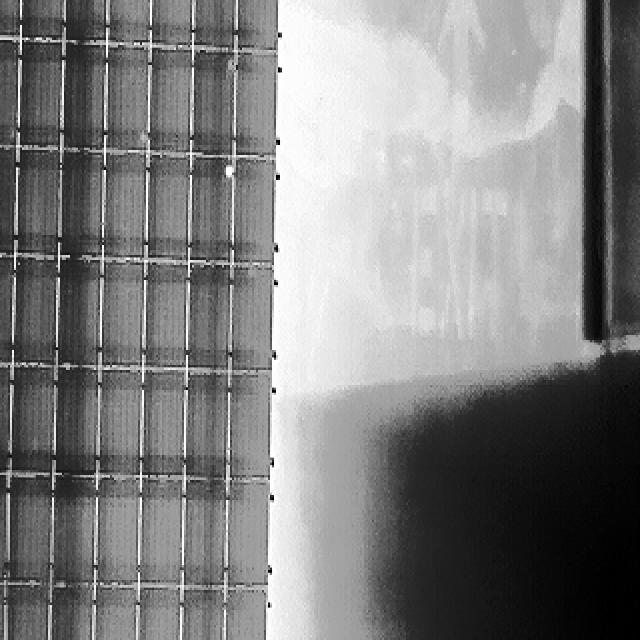Hotspots: (135, 125, 155, 149), (222, 156, 234, 178)
PV-modules: (20, 41, 72, 150), (152, 49, 204, 156), (227, 269, 275, 378), (228, 158, 276, 266), (58, 42, 105, 152), (136, 480, 182, 590), (99, 152, 145, 262), (12, 366, 58, 476), (225, 376, 271, 485), (94, 373, 139, 484), (9, 478, 54, 588), (96, 263, 141, 373), (92, 475, 137, 585), (50, 479, 95, 588), (58, 154, 104, 260), (106, 43, 151, 151), (57, 373, 101, 483), (190, 46, 234, 156), (55, 257, 99, 367), (184, 481, 228, 591), (236, 54, 281, 160), (139, 370, 183, 478), (14, 260, 58, 368), (141, 261, 185, 368), (18, 150, 62, 257), (144, 155, 188, 262), (187, 369, 230, 477), (228, 482, 271, 590), (188, 157, 231, 264), (190, 267, 232, 376), (0, 582, 48, 638), (46, 585, 92, 640), (3, 585, 48, 640), (224, 587, 270, 640), (238, 0, 282, 55), (91, 587, 136, 640), (133, 587, 178, 640), (181, 589, 226, 640), (190, 0, 236, 48), (0, 35, 20, 143), (106, 0, 150, 45), (154, 0, 196, 45), (20, 0, 66, 40), (62, 0, 108, 40), (0, 145, 12, 255), (0, 362, 12, 472), (0, 257, 12, 365), (0, 475, 8, 585), (0, 0, 20, 40), (0, 582, 8, 638)
